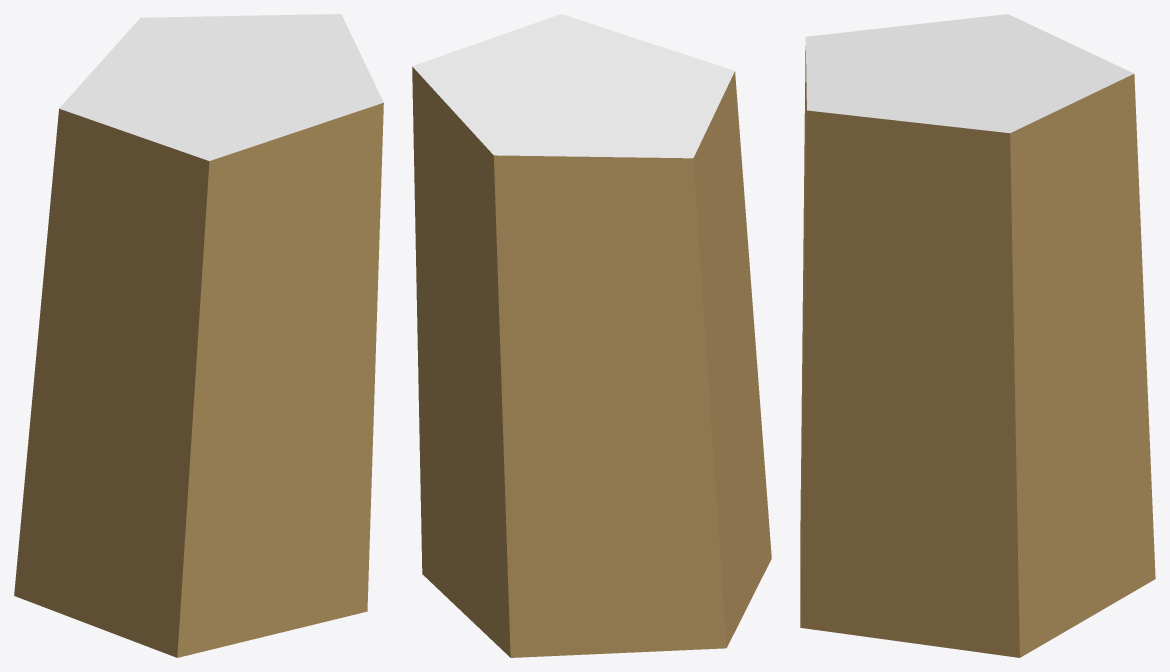
File: Simple_Stump_Snow_02_LOD.fbx
The picture shows the model from 3 angles, left to right: view 1: azimuth 30°, elevation 25°; view 2: azimuth 150°, elevation 25°; view 3: azimuth 270°, elevation 25°; orthographic projection. The views are drawn at different scales.
Visible parts, largest first — view 1: Simple_Stump_Snow_02_LOD0; view 2: Simple_Stump_Snow_02_LOD0; view 3: Simple_Stump_Snow_02_LOD0.
Boxes of the visible parts, box(x1,y1,x2,y2) form: Simple_Stump_Snow_02_LOD0: box(14, 14, 383, 657); Simple_Stump_Snow_02_LOD0: box(412, 14, 771, 657); Simple_Stump_Snow_02_LOD0: box(800, 14, 1155, 657).
Size of what is drawn, in the model's own units: 59.82 by 89.74 by 54.27.
